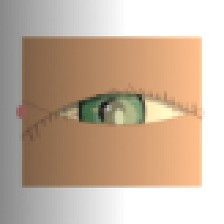corneal_ulcer: (92, 94, 148, 139)
